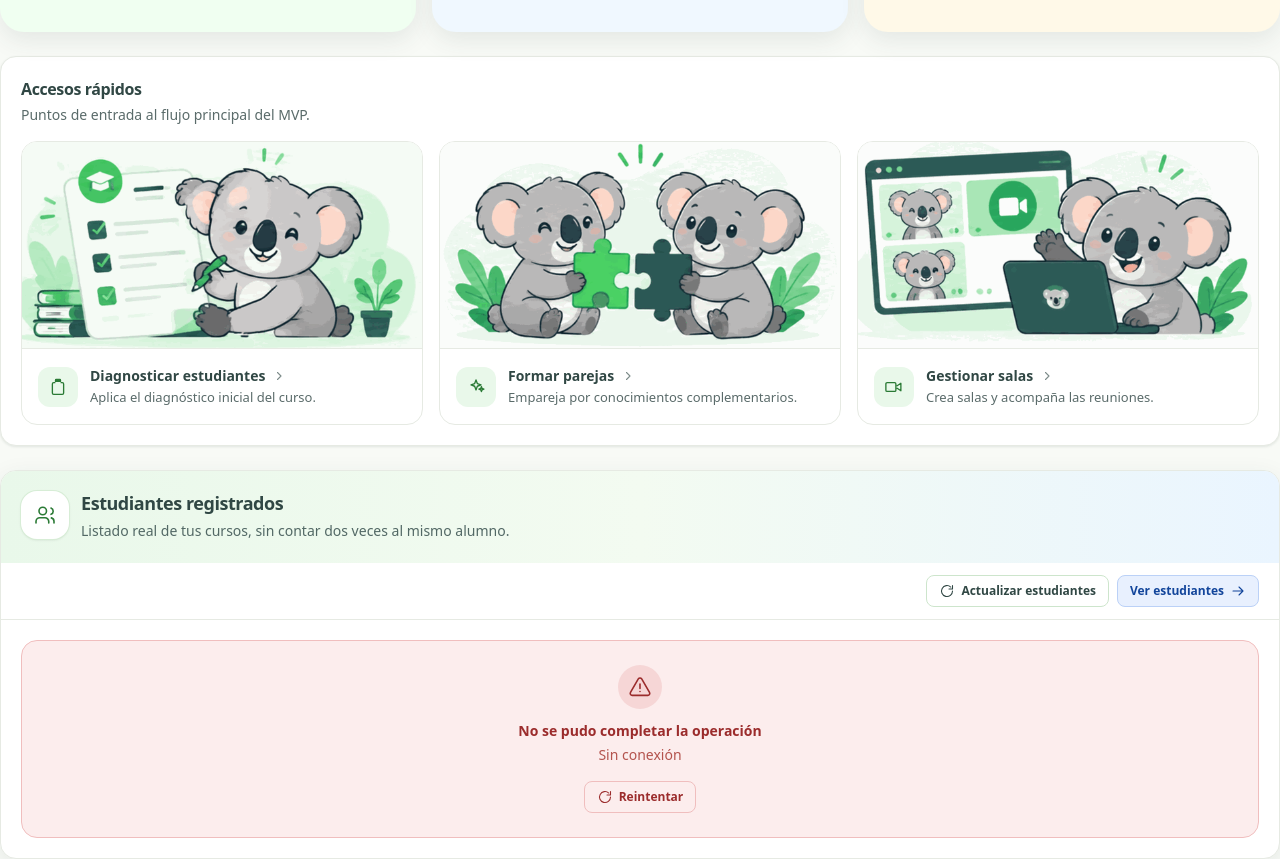
Scenario: TeacherDashboard con estudiantes reales › no muestra una cantidad ficticia ante un fallo y permite reintentar
(page scrolled)
expect the text "Sin conexión" is shown: met, box [598,745,682,764]
Click the button "Reintentar" at coordinates (640, 797), box [584,781,696,813]
(page scrolled)
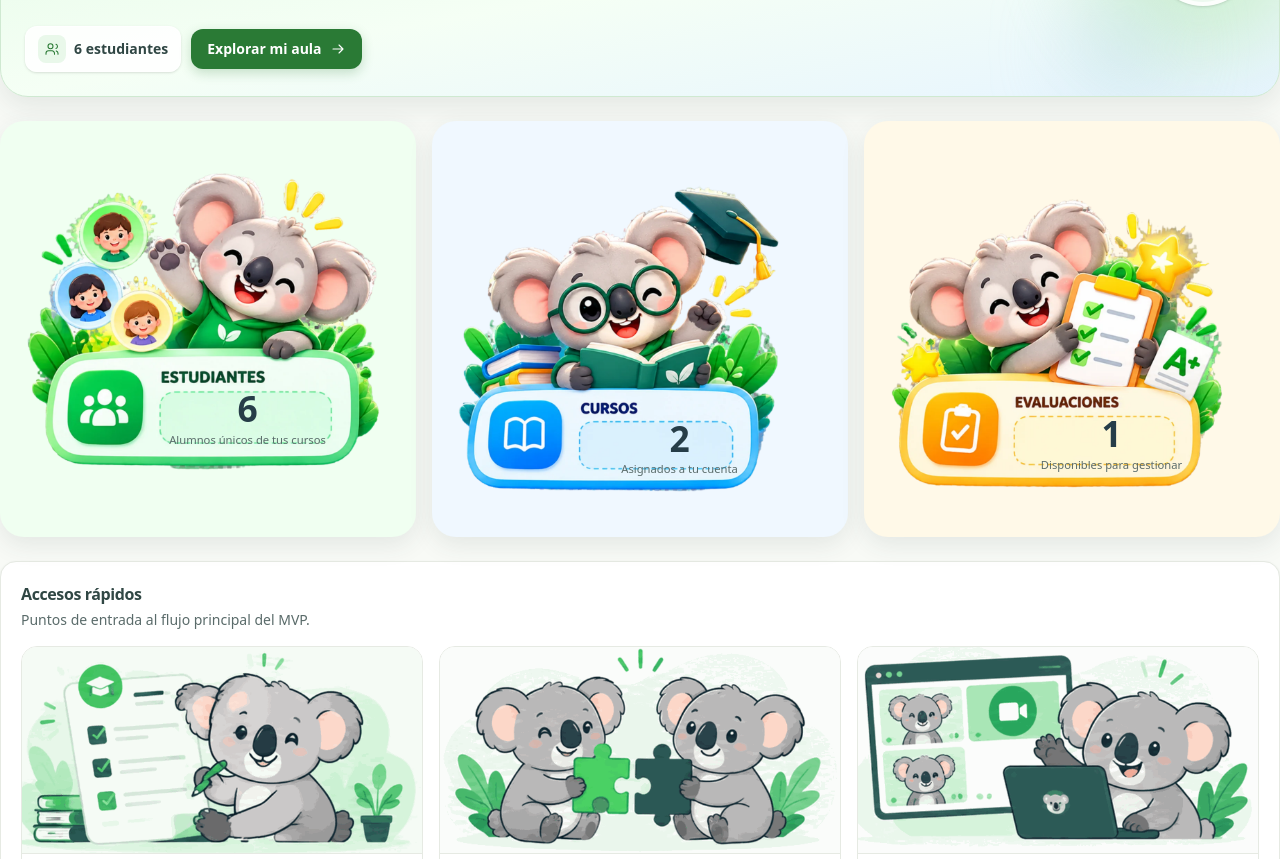
expect the text named "Estudiantes" reads "6": met, box [237,384,258,432]
